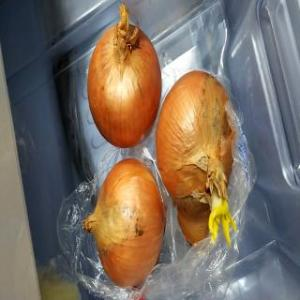onion: (156, 67, 238, 245), (83, 158, 167, 288), (87, 5, 160, 149)
